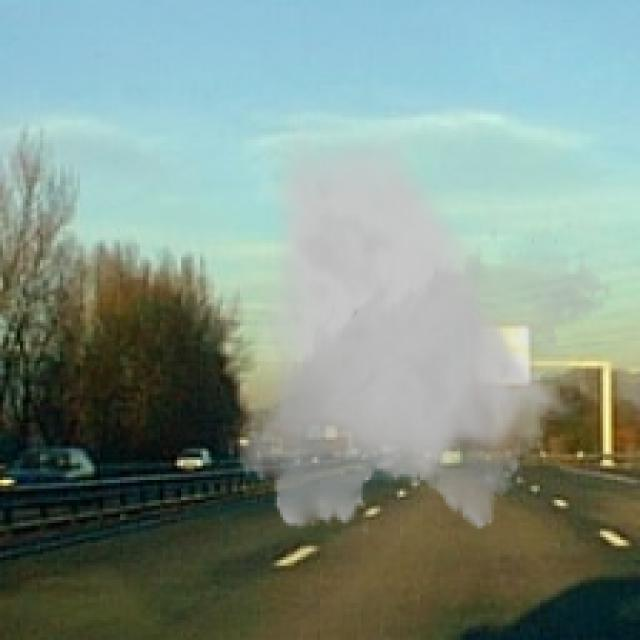Smoke: (226, 115, 614, 540)
